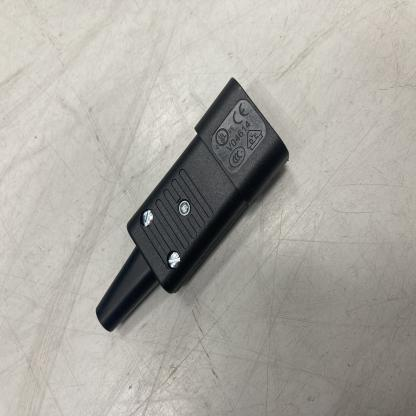SP0000004: (65, 29, 319, 380)
